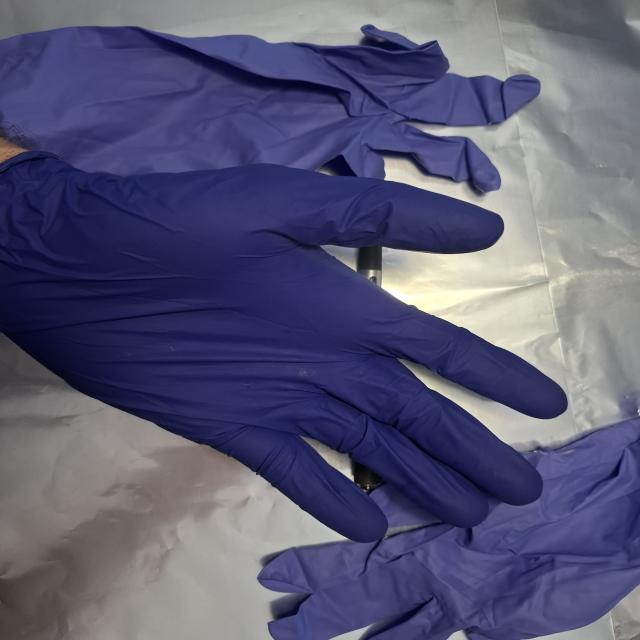glove_on: (8, 144, 574, 547)
